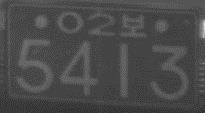0: (56, 9, 83, 34)
1: (108, 44, 139, 98)
2: (86, 11, 117, 37)
3: (149, 43, 190, 100)
4: (59, 39, 99, 96)
5: (16, 38, 53, 94)
보: (119, 12, 147, 38)
